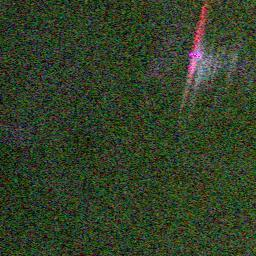Ship: (146, 204, 165, 234)
